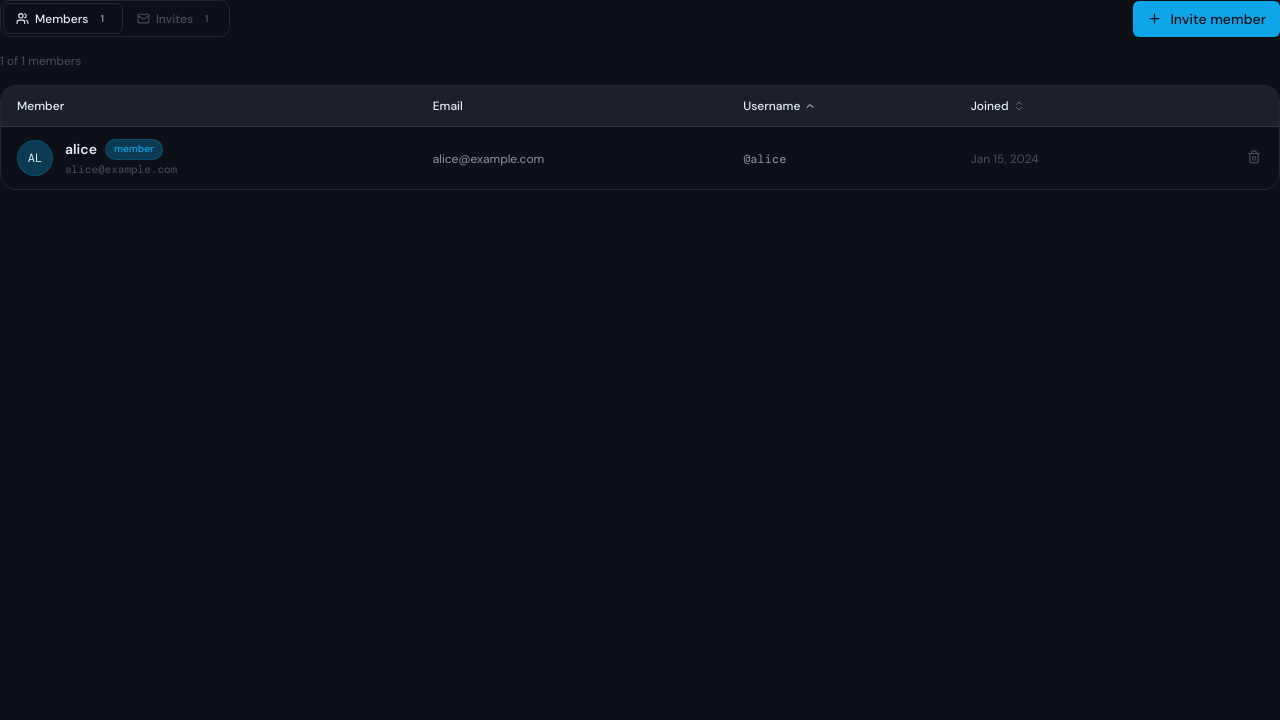
Test: MembersTab › cancel invite › opens cancel confirm modal on X click
Click the button "Invites 1".
click(176, 19)  # box [125,4,226,33]
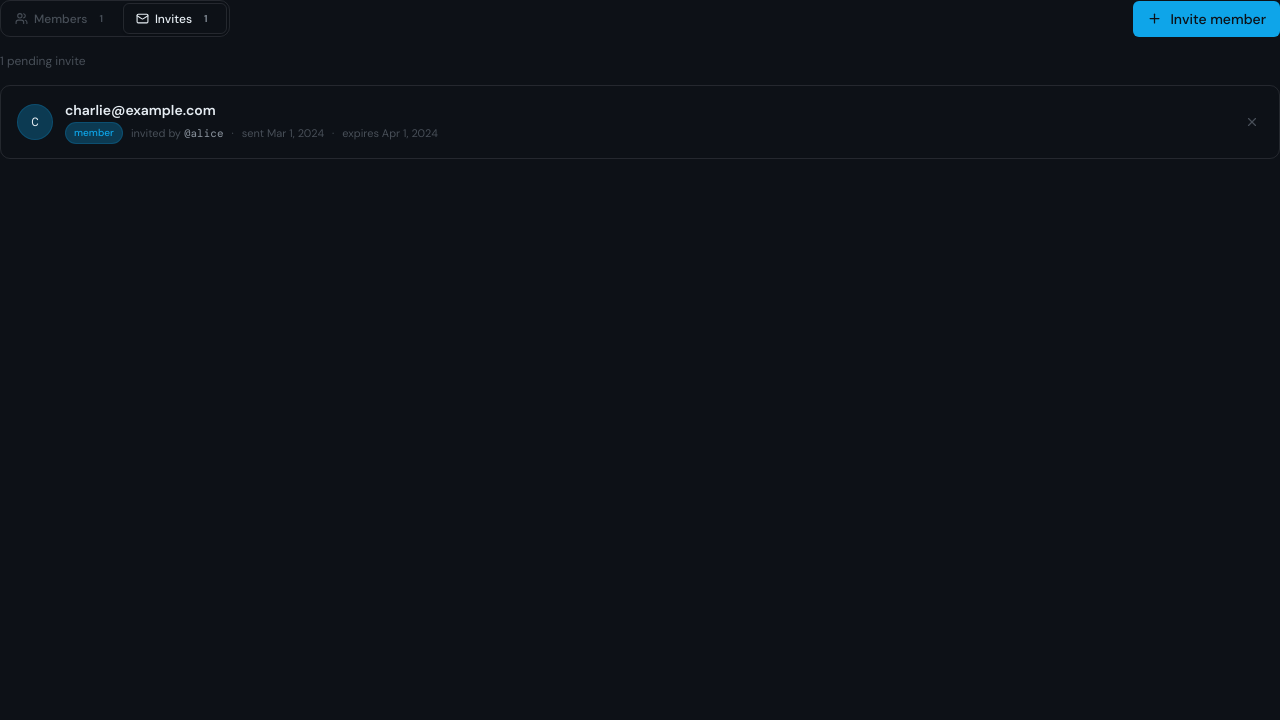
Click the button titled "Cancel invite".
click(1252, 122)  # box [1241,111,1263,133]
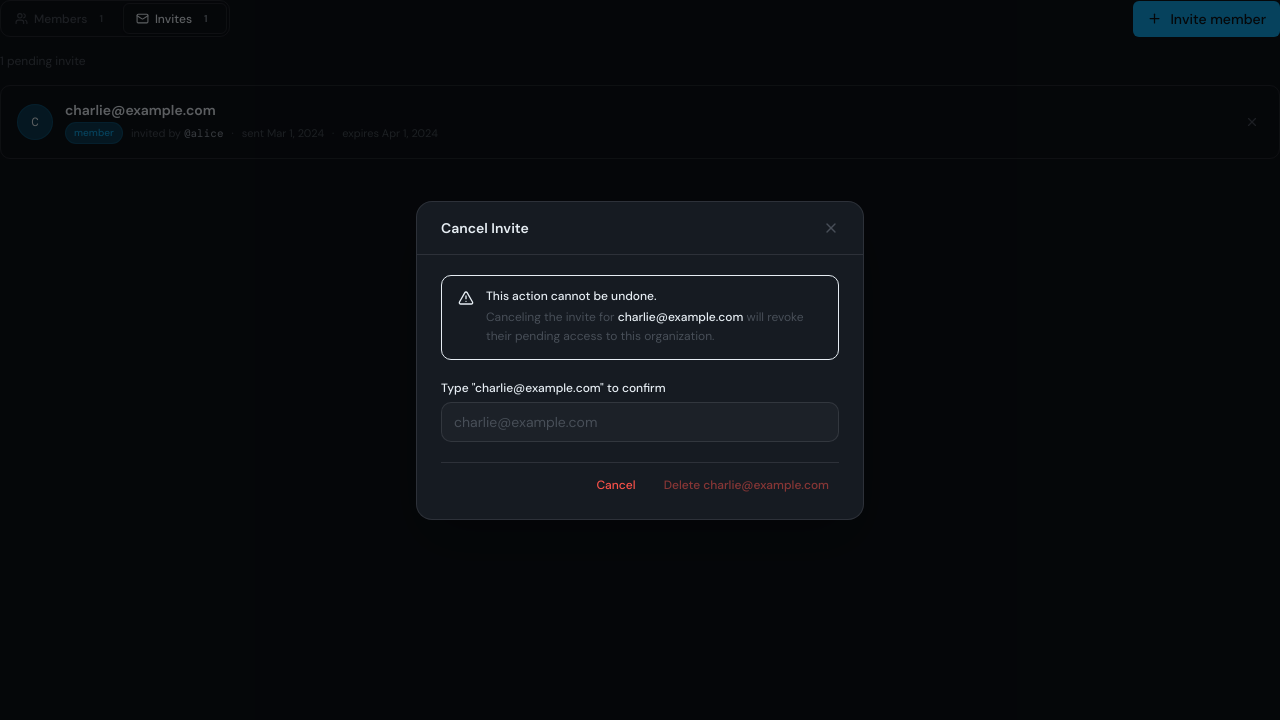
Expected: the heading "Cancel Invite" is shown, [441,218,529,238]
